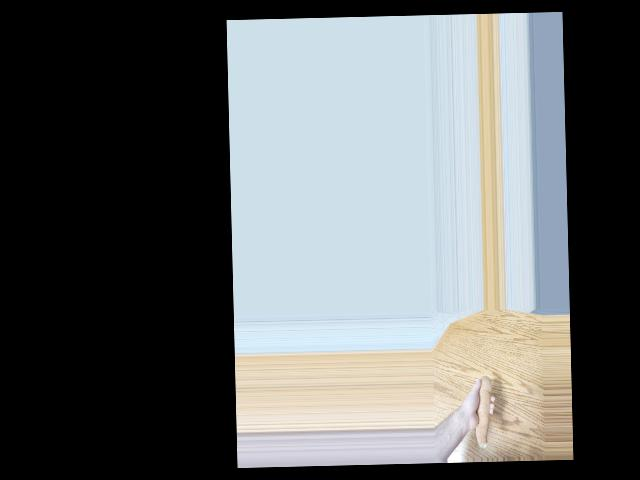sweet_potato: (468, 375, 494, 450)
